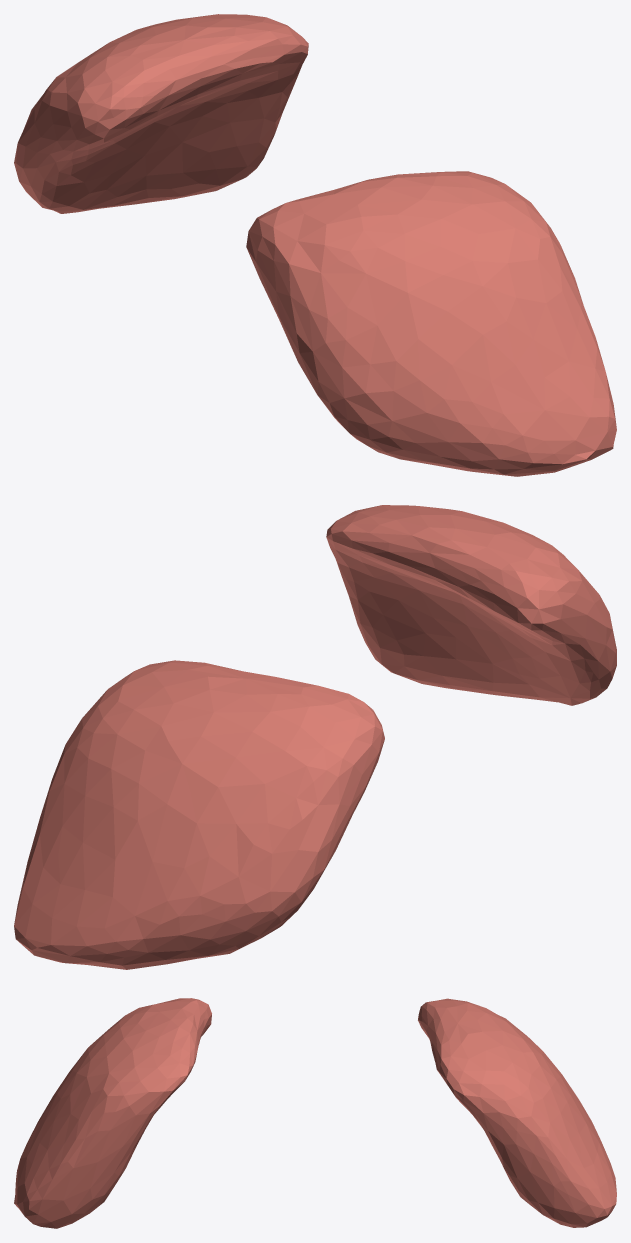
3 views of the same model, one above another, from view 1: azimuth 30°, elevation 25°; view 2: azimuth 150°, elevation 25°; view 3: azimuth 270°, elevation 25° (orthographic). The views are drawn at different scales.
Visible parts, largest first — view 1: 614.obj; view 2: 614.obj; view 3: 614.obj.
Part boxes in pixels (bbox=[...]): 614.obj: bbox=[14, 14, 616, 476]; 614.obj: bbox=[14, 505, 616, 969]; 614.obj: bbox=[14, 998, 616, 1228].
Bounding box in the file's own units: 971 × 831 × 2708.
